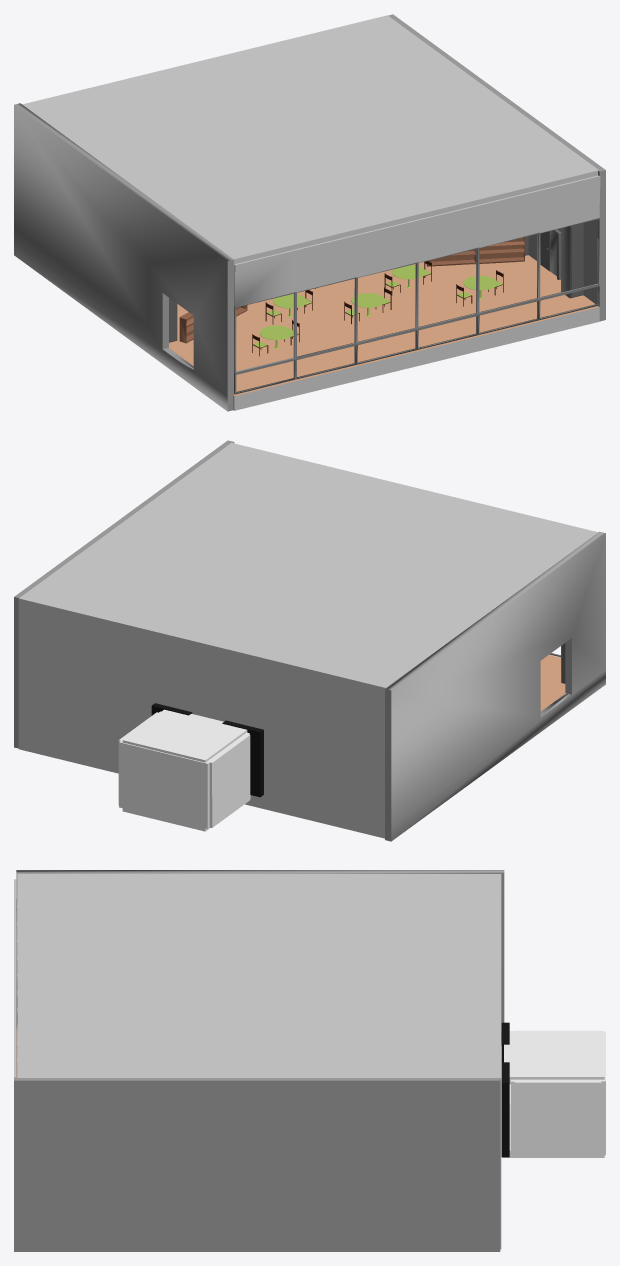
File: Building_new.fbx
3 renders of one model, top to bottom at view 1: azimuth 30°, elevation 25°; view 2: azimuth 150°, elevation 25°; view 3: azimuth 270°, elevation 25°, orthographic. The views are drawn at different scales.
Parts seen in each view (by area): view 1: library, pillar__3_, exit, S_bookcase__2__1; view 2: library, elevator, ele_left; view 3: library, elevator, ele_right.
Part boxes in pixels (x1,y1,x2,y2): library: (14, 14, 605, 411); pillar__3_: (561, 223, 583, 298); exit: (540, 229, 560, 279); S_bookcase__2__1: (476, 237, 524, 262); library: (14, 440, 605, 841); elevator: (118, 709, 250, 831); ele_left: (222, 720, 263, 797); library: (14, 870, 504, 1251); elevator: (502, 1030, 605, 1157); ele_right: (501, 1062, 509, 1157).
Size of the model in its own units: 6215 by 2369 by 7393.
